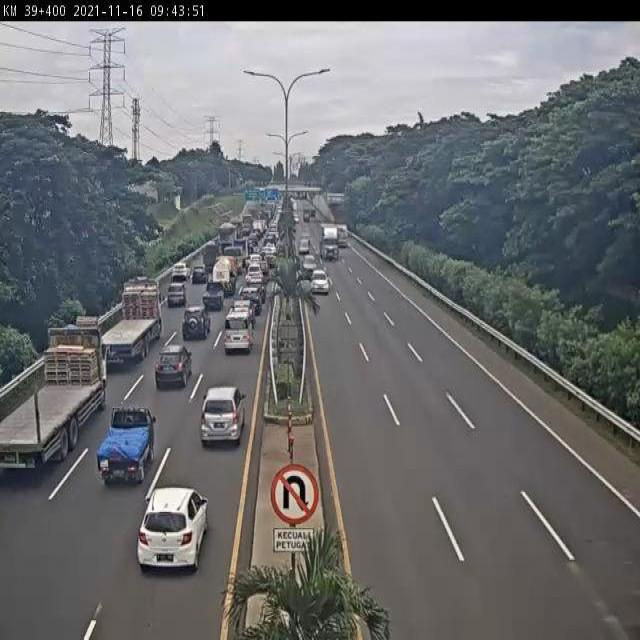car: (138, 488, 208, 571), (97, 408, 156, 487), (200, 387, 245, 445), (153, 347, 191, 388), (223, 314, 253, 354), (181, 308, 211, 344), (202, 280, 226, 313), (230, 300, 254, 333), (240, 287, 262, 313), (167, 284, 187, 308), (311, 269, 329, 295), (248, 277, 268, 299), (189, 265, 206, 287), (169, 261, 188, 279), (246, 265, 264, 284), (301, 254, 315, 274), (248, 254, 264, 266), (299, 236, 308, 252)
small truck: (200, 242, 221, 270), (224, 246, 243, 274)
truck-l-: (0, 326, 106, 470), (101, 279, 164, 361), (320, 225, 340, 260)
truck-m-: (212, 258, 235, 298), (217, 223, 237, 253)
